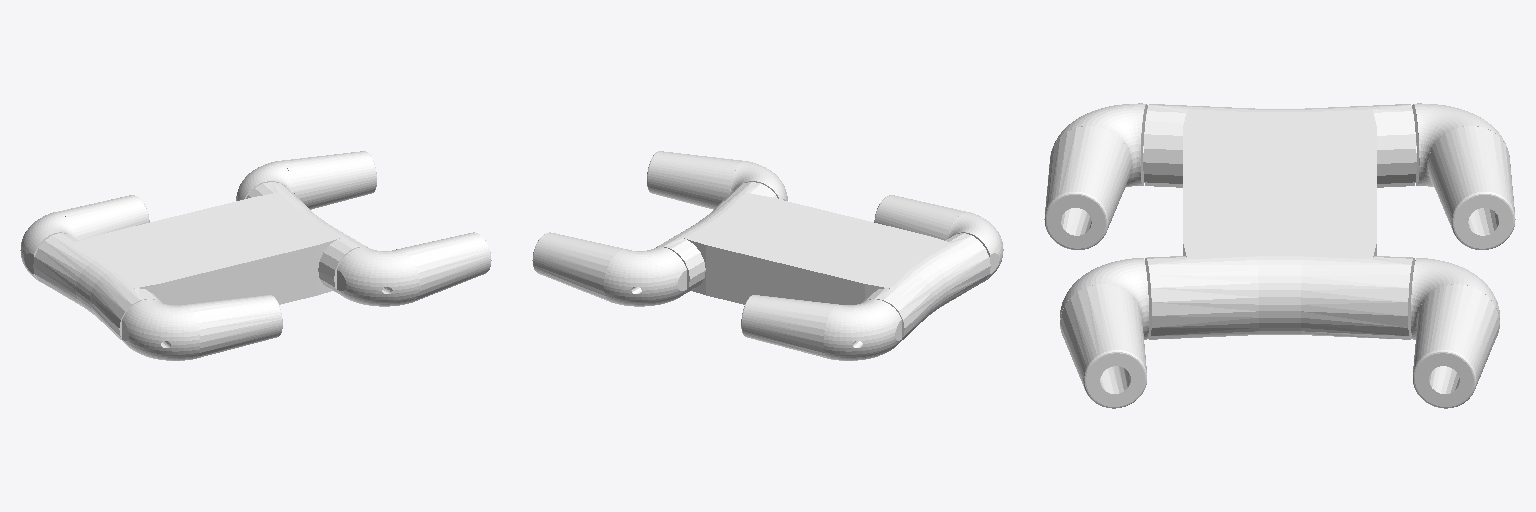
URDF robot description (6_degree):
<?xml version="1.0" encoding="utf-8"?>
<!-- This URDF was automatically created by SolidWorks to URDF Exporter! Originally created by [author] ([email redacted]) 
     Commit Version: 1.5.1-0-g916b5db  Build Version: 1.5.7152.31018
     For more information, please see http://wiki.ros.org/sw_urdf_exporter -->
<robot
  name="6_degree">
  <link
    name="base_link">
    <inertial>
      <origin
        xyz="1.3878E-17 2.381E-08 1.2143E-17"
        rpy="0 0 0" />
      <mass
        value="2.803" />
      <inertia
        ixx="0.01027643"
        ixy="8.2222E-19"
        ixz="-8.757E-11"
        iyy="0.036967253"
        iyz="-2.4309E-18"
        izz="0.044882727" />
    </inertial>
    <visual>
      <origin
        xyz="0 0 0"
        rpy="0 0 0" />
      <geometry>
        <mesh
          filename="package://6_degree/meshes/base_link.STL" />
      </geometry>
      <material
        name="">
        <color
          rgba="1 1 1 1" />
      </material>
    </visual>
    <collision>
      <origin
        xyz="0 0 0"
        rpy="0 0 0" />
      <geometry>
        <mesh
          filename="package://6_degree/meshes/base_link.STL" />
      </geometry>
    </collision>
  </link>
  <link
    name="left_fromt_link">
    <inertial>
      <origin
        xyz="-1.8567E-07 0.056145 -0.030134"
        rpy="0 0 0" />
      <mass
        value="0.0818" />
      <inertia
        ixx="0.000205846"
        ixy="5.1041E-10"
        ixz="6.9259E-10"
        iyy="0.000044905"
        iyz="0.284E-05"
        izz="0.000205604" />
    </inertial>
    <visual>
      <origin
        xyz="0 0 0"
        rpy="0 0 0" />
      <geometry>
        <mesh
          filename="package://6_degree/meshes/left_fromt_link.STL" />
      </geometry>
      <material
        name="">
        <color
          rgba="1 1 1 1" />
      </material>
    </visual>
    <collision>
      <origin
        xyz="0 0 0"
        rpy="0 0 0" />
      <geometry>
        <mesh
          filename="package://6_degree/meshes/left_fromt_link.STL" />
      </geometry>
    </collision>
  </link>
  <joint
    name="left_front_leg"
    type="continuous">
    <origin
      xyz="0.14077 0.10244 0"
      rpy="1.5708 1.5708 0" />
    <parent
      link="base_link" />
    <child
      link="left_fromt_link" />
    <axis
      xyz="0 0.10453 -0.99452" />
    <limit
      effort="5"
      velocity="487" />
  </joint>
  <link
    name="right_front_link">
    <inertial>
      <origin
        xyz="1.8567E-07 0.056145 0.030134"
        rpy="0 0 0" />
      <mass
        value="0.0818" />
      <inertia
        ixx="0.000205846"
        ixy="-5.1041E-10"
        ixz="6.9259E-10"
        iyy="0.000044905"
        iyz="-0.284E-05"
        izz="0.000205604" />
    </inertial>
    <visual>
      <origin
        xyz="0 0 0"
        rpy="0 0 0" />
      <geometry>
        <mesh
          filename="package://6_degree/meshes/right_front_link.STL" />
      </geometry>
      <material
        name="">
        <color
          rgba="1 1 1 1" />
      </material>
    </visual>
    <collision>
      <origin
        xyz="0 0 0"
        rpy="0 0 0" />
      <geometry>
        <mesh
          filename="package://6_degree/meshes/right_front_link.STL" />
      </geometry>
    </collision>
  </link>
  <joint
    name="right_front_leg"
    type="continuous">
    <origin
      xyz="0.14077 -0.10244 0"
      rpy="1.5708 1.5708 0" />
    <parent
      link="base_link" />
    <child
      link="right_front_link" />
    <axis
      xyz="0 0.10453 0.99452" />
    <limit
      effort="5"
      velocity="487" />
  </joint>
  <link
    name="right_back_link">
    <inertial>
      <origin
        xyz="-1.379E-08 0.052688 0.035837"
        rpy="0 0 0" />
      <mass
        value="0.0818" />
      <inertia
        ixx="0.000205846"
        ixy="-4.3706E-10"
        ixz="4.9376E-10"
        iyy="0.000047251"
        iyz="-1.9484E-05"
        izz="0.0002032258" />
    </inertial>
    <visual>
      <origin
        xyz="0 0 0"
        rpy="0 0 0" />
      <geometry>
        <mesh
          filename="package://6_degree/meshes/right_back_link.STL" />
      </geometry>
      <material
        name="">
        <color
          rgba="1 1 1 1" />
      </material>
    </visual>
    <collision>
      <origin
        xyz="0 0 0"
        rpy="0 0 0" />
      <geometry>
        <mesh
          filename="package://6_degree/meshes/right_back_link.STL" />
      </geometry>
    </collision>
  </link>
  <joint
    name="right_back_leg"
    type="continuous">
    <origin
      xyz="-0.14077 -0.10244 0"
      rpy="1.6755 1.5708 0" />
    <parent
      link="base_link" />
    <child
      link="right_back_link" />
    <axis
      xyz="0 0 1" />
    <limit
      effort="5"
      velocity="487" />
  </joint>
  <link
    name="left_back_link">
    <inertial>
      <origin
        xyz="1.379E-08 0.048653 -0.041149"
        rpy="0 0 0" />
      <mass
        value="0.0818" />
      <inertia
        ixx="0.000205846"
        ixy="4.8628E-10"
        ixz="4.4537E-10"
        iyy="0.000053006"
        iyz="0.000035276"
        izz="0.000197502" />
    </inertial>
    <visual>
      <origin
        xyz="0 0 0"
        rpy="0 0 0" />
      <geometry>
        <mesh
          filename="package://6_degree/meshes/left_back_link.STL" />
      </geometry>
      <material
        name="">
        <color
          rgba="1 1 1 1" />
      </material>
    </visual>
    <collision>
      <origin
        xyz="0 0 0"
        rpy="0 0 0" />
      <geometry>
        <mesh
          filename="package://6_degree/meshes/left_back_link.STL" />
      </geometry>
    </collision>
  </link>
  <joint
    name="left_back_leg"
    type="continuous">
    <origin
      xyz="-0.14077 0.10244 0"
      rpy="1.5708 1.5708 0" />
    <parent
      link="base_link" />
    <child
      link="left_back_link" />
    <axis
      xyz="0 -0.10453 -0.99452" />
    <limit
      effort="5"
      velocity="487" />
  </joint>
</robot>

--- What the picture shows (computed from the rendered views, not written in the file) ---
3 views of the same robot in one strip: view 1: azimuth 30°, elevation 25°; view 2: azimuth 150°, elevation 25°; view 3: azimuth 270°, elevation 25° (orthographic).
Model 6_degree with 5 links and 4 joints (4 continuous), rooted at base_link, posed all joints at 0.
Visible links, largest first — view 1: base_link, right_back_link, right_front_link, left_fromt_link, left_back_link; view 2: base_link, left_back_link, left_fromt_link, right_front_link, right_back_link; view 3: base_link, left_back_link, right_back_link, right_front_link, left_fromt_link.
Link boxes in pixels (x1,y1,x2,y2): base_link: [33, 182, 367, 340]; right_back_link: [122, 295, 282, 360]; right_front_link: [337, 232, 491, 306]; left_fromt_link: [236, 151, 376, 209]; left_back_link: [20, 195, 149, 282]; base_link: [656, 182, 990, 340]; left_back_link: [741, 295, 901, 360]; left_fromt_link: [532, 232, 686, 306]; right_front_link: [647, 151, 787, 209]; right_back_link: [874, 195, 1003, 282]; base_link: [1143, 104, 1416, 339]; left_back_link: [1412, 103, 1515, 249]; right_back_link: [1044, 103, 1147, 249]; right_front_link: [1060, 258, 1148, 408]; left_fromt_link: [1411, 258, 1499, 408].
Bounding box of the posed robot: 0.4649 × 0.3645 × 0.064 m (x, y, z).
5 mesh visuals loaded from 5 distinct referenced files (5 binary STL).